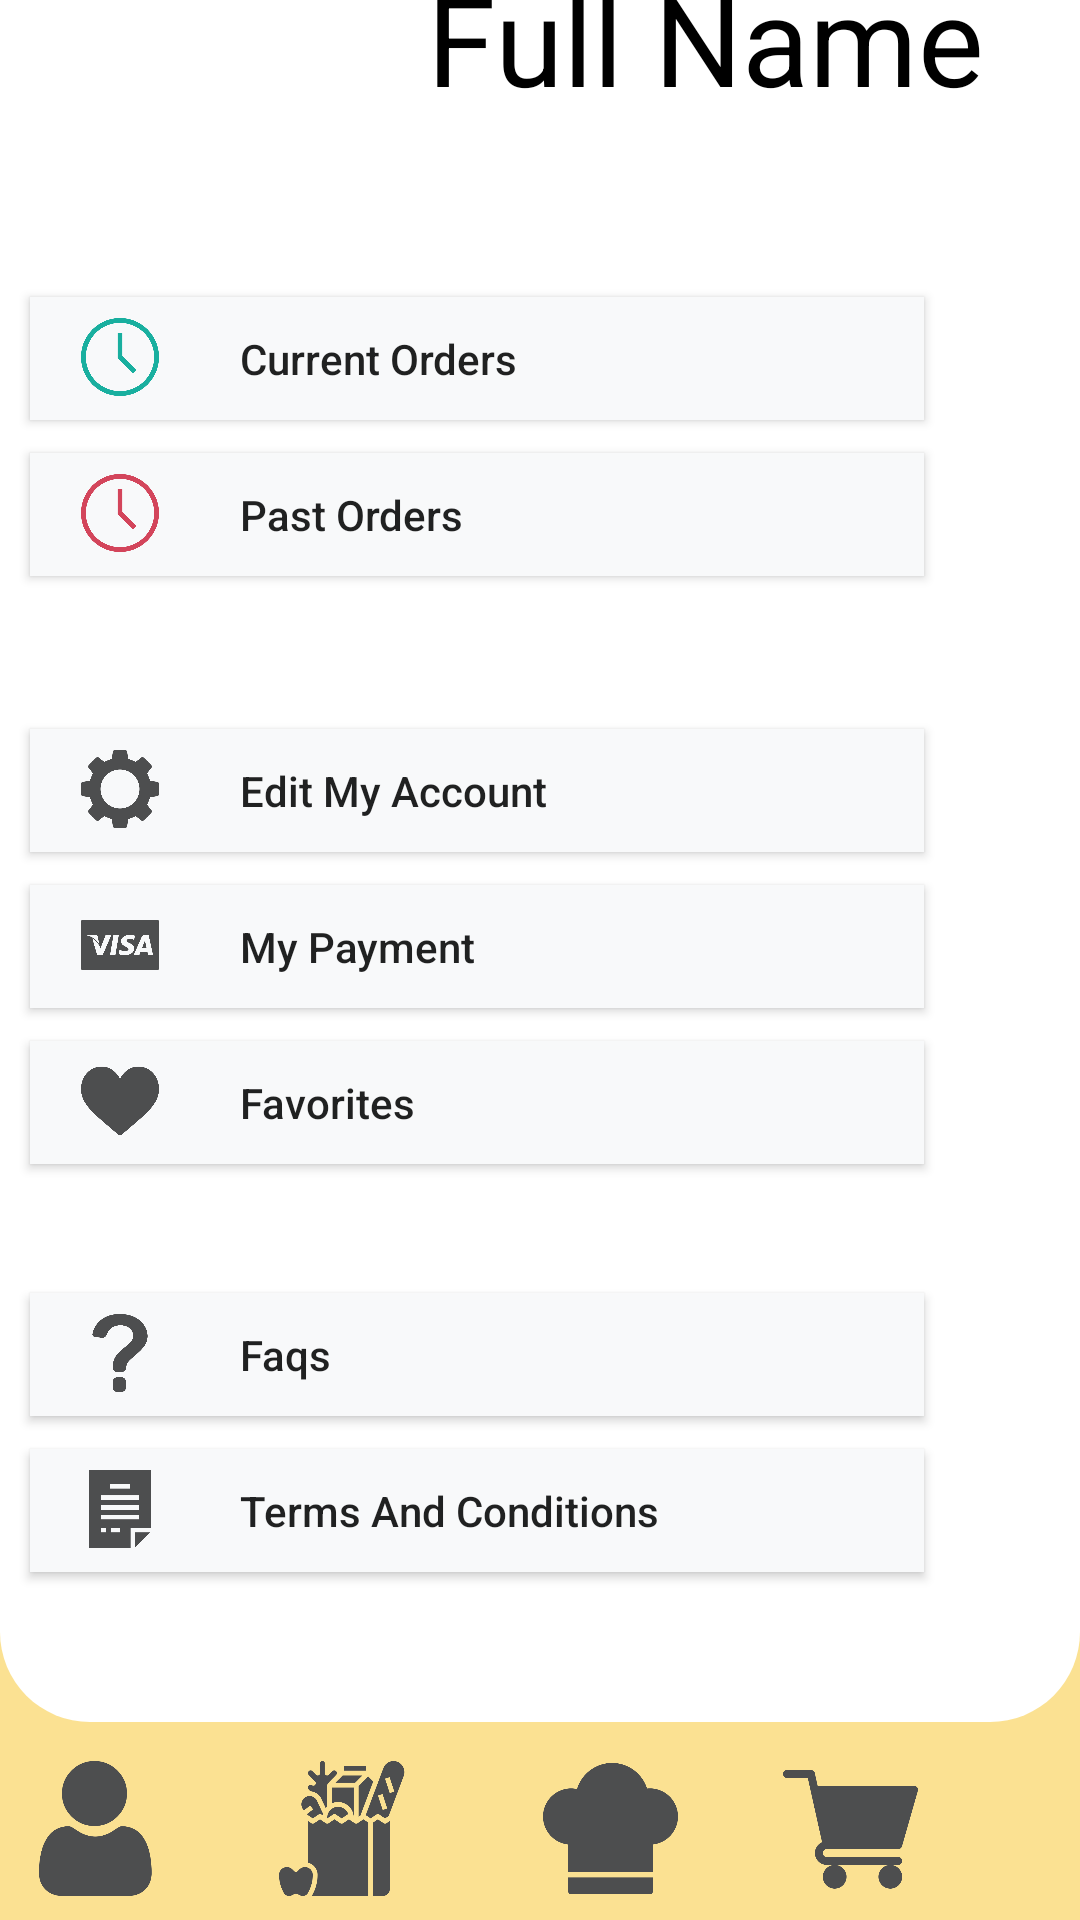

Where to tap for icons on this 1080×1920 app screen, as (x,y):
Cart Icon: (850,1829)
Food Icon: (342,1828)
like: (120,1101)
Recipe Icon: (610,1828)
Username Picture: (95,1828)
